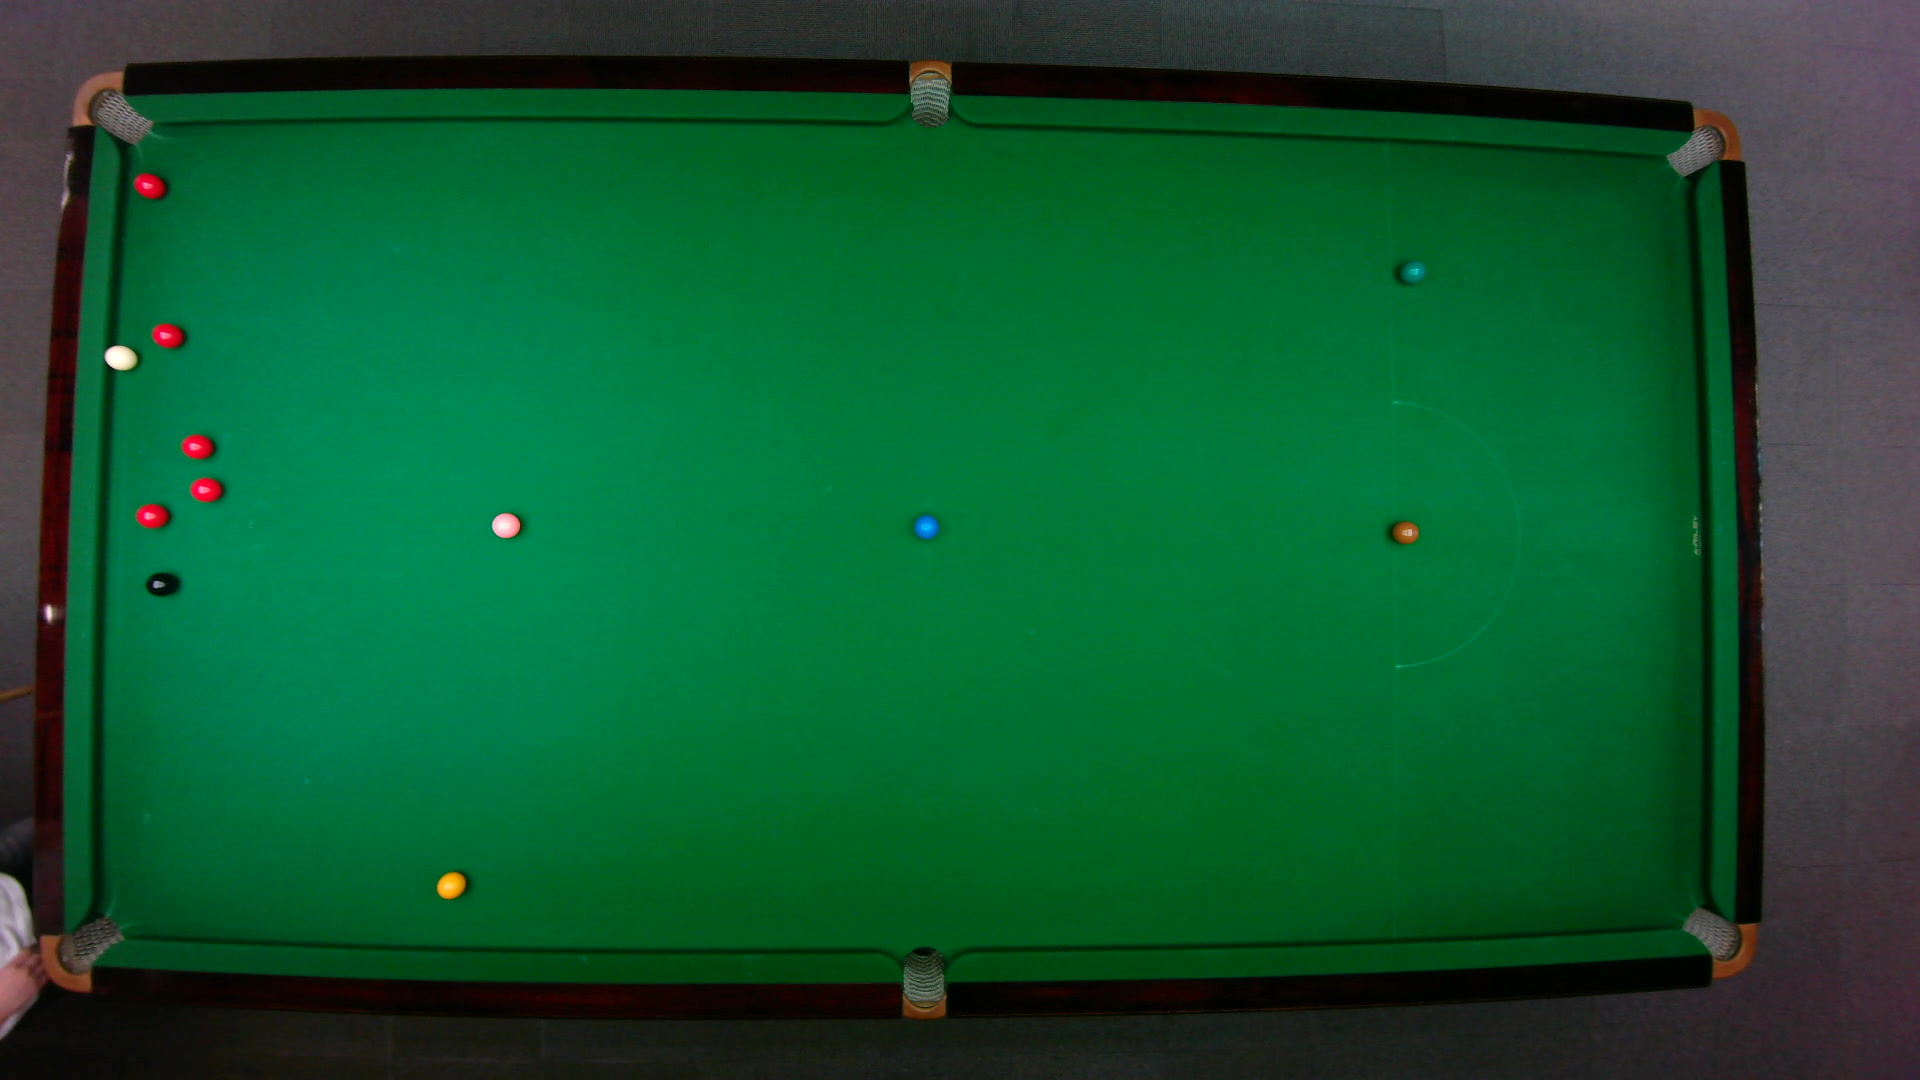bag: (41, 913, 125, 992), (69, 70, 152, 144), (1677, 905, 1756, 978), (1663, 107, 1741, 177), (901, 944, 944, 1021), (909, 57, 949, 128)
black: (144, 571, 175, 597)
blue: (913, 513, 939, 539)
brown: (1390, 520, 1419, 545)
green: (1396, 258, 1425, 284)
pink: (489, 510, 521, 539)
red: (133, 501, 170, 529), (131, 171, 166, 199), (149, 320, 185, 348), (189, 475, 223, 502), (178, 433, 214, 459)
white: (102, 342, 138, 371)
yellow: (435, 869, 465, 899)
zone: (1390, 400, 1520, 669)
